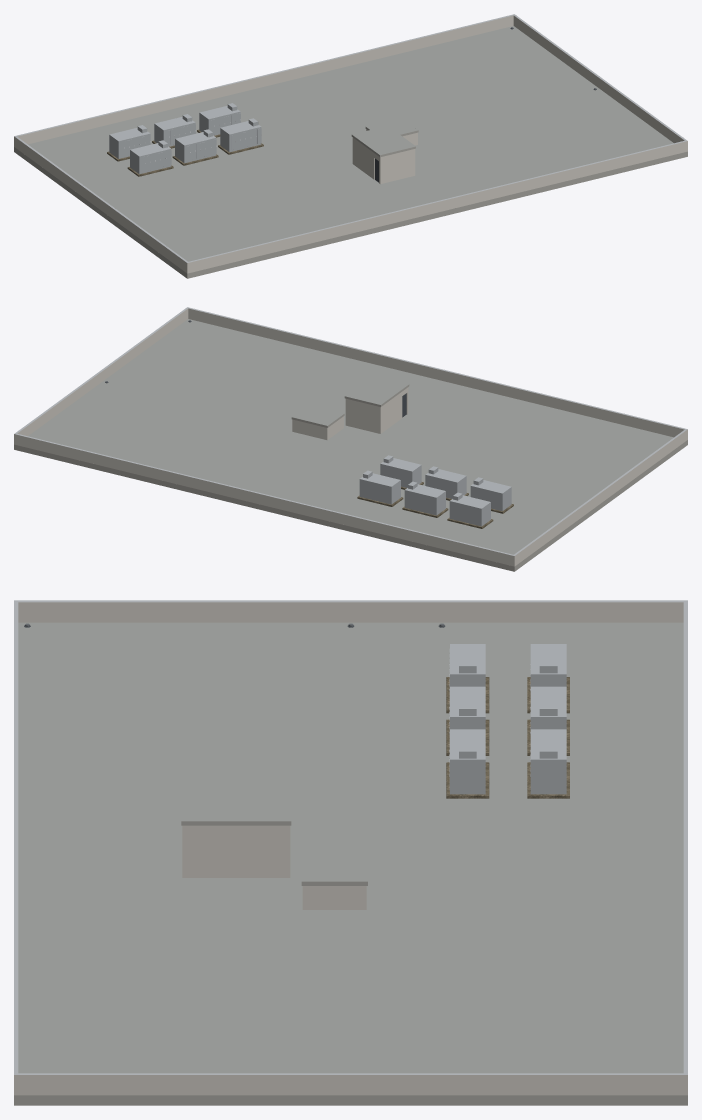
The model's file is 34_azotea.glb.
The picture shows the model from 3 angles, top to bottom: view 1: azimuth 30°, elevation 25°; view 2: azimuth 150°, elevation 25°; view 3: azimuth 270°, elevation 25°; orthographic projection. The views are drawn at different scales.
Visible parts, largest first — view 1: Losa de azotea y pretil, uma (×6), tapa de escalera principal, remate del cubo del elevador (sin cuarto de máquinas); view 2: Losa de azotea y pretil, uma (×6), tapa de escalera principal, remate del cubo del elevador (sin cuarto de máquinas); view 3: Losa de azotea y pretil, uma (×6), tapa de escalera principal, remate del cubo del elevador (sin cuarto de máquinas).
Boxes of the visible parts, box(x1,y1,x2,y2) form: Losa de azotea y pretil: box(14, 14, 687, 278); uma (×6): box(107, 103, 263, 176); tapa de escalera principal: box(351, 126, 415, 184); remate del cubo del elevador (sin cuarto de máquinas): box(365, 118, 418, 145); Losa de azotea y pretil: box(14, 307, 687, 571); uma (×6): box(357, 455, 513, 528); tapa de escalera principal: box(344, 375, 409, 433); remate del cubo del elevador (sin cuarto de máquinas): box(291, 404, 344, 440); Losa de azotea y pretil: box(14, 600, 687, 1105); uma (×6): box(446, 644, 569, 798); tapa de escalera principal: box(181, 787, 291, 877); remate del cubo del elevador (sin cuarto de máquinas): box(301, 847, 367, 909).
Bounding box in the file's own units: 50 × 3.3 × 30.
9 materials, 2 textured.
